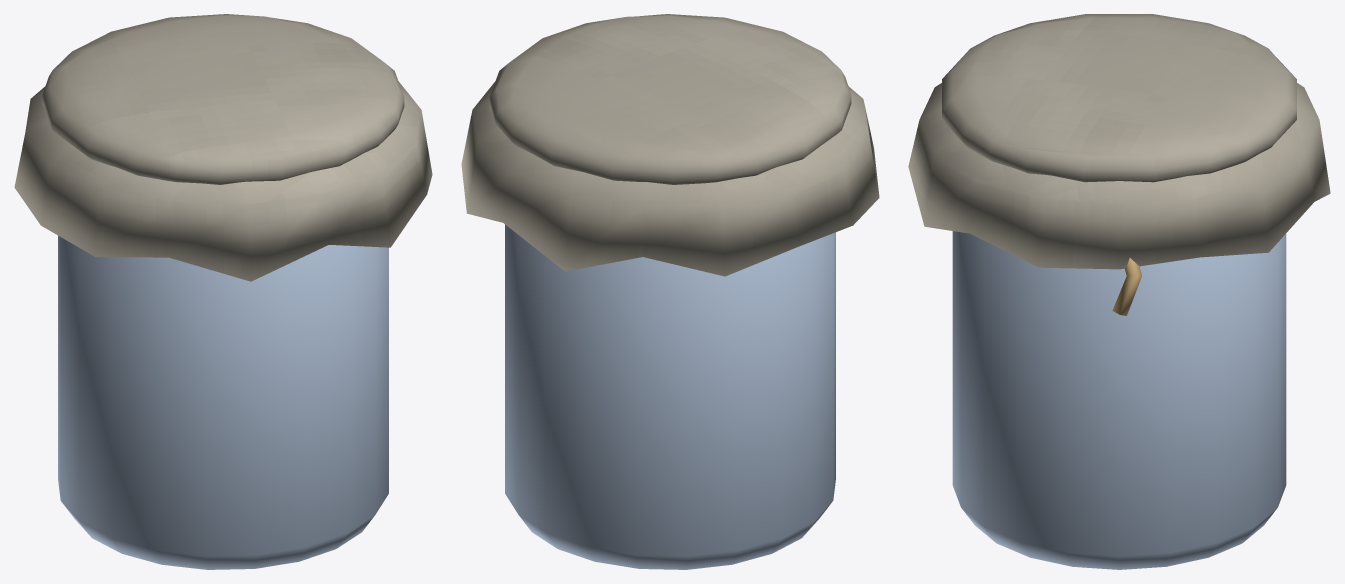
Rendered from pellet_jar_red.glb.
The picture shows the model from 3 angles, left to right: view 1: azimuth 30°, elevation 25°; view 2: azimuth 150°, elevation 25°; view 3: azimuth 270°, elevation 25°; orthographic projection.
Parts seen in each view (by area): view 1: pellet_jar_red_glass, pellet_jar_red_felt_ivory; view 2: pellet_jar_red_glass, pellet_jar_red_felt_ivory; view 3: pellet_jar_red_glass, pellet_jar_red_felt_ivory, pellet_jar_red_hemp.
Boxes of the visible parts, x1,y1,x2,y2 form: pellet_jar_red_glass: [58, 235, 388, 569]; pellet_jar_red_felt_ivory: [14, 14, 432, 281]; pellet_jar_red_glass: [505, 224, 835, 569]; pellet_jar_red_felt_ivory: [461, 14, 879, 276]; pellet_jar_red_glass: [952, 231, 1286, 569]; pellet_jar_red_felt_ivory: [908, 14, 1330, 269]; pellet_jar_red_hemp: [1112, 258, 1141, 315].
Bounding box in the file's own units: 0.2363 × 0.2579 × 0.228.
6 materials, 4 textured.
